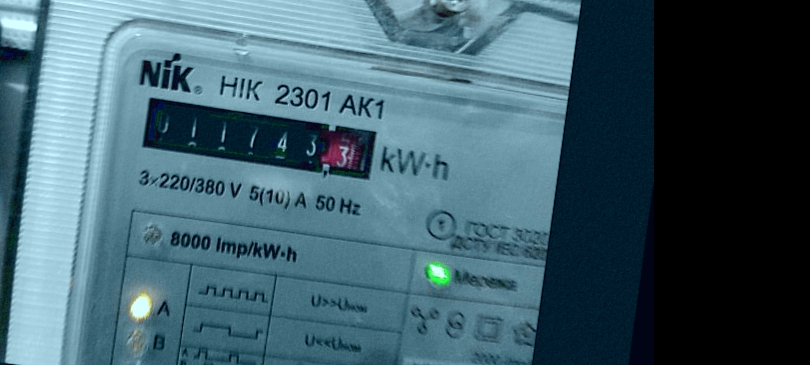0: (154, 107, 172, 136)
1: (215, 115, 230, 144), (186, 111, 200, 139)
3: (303, 130, 320, 159), (332, 143, 350, 170)
4: (273, 126, 291, 155)
7: (244, 119, 262, 149)
screen: (129, 85, 390, 193)
